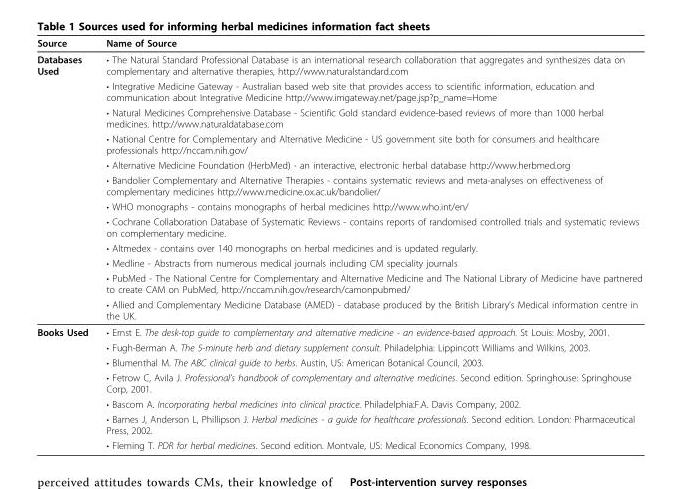table: (36, 36, 641, 450)
table column: (96, 36, 641, 450), (36, 36, 96, 450)
table column header: (36, 36, 641, 50)
table row: (36, 50, 641, 78), (36, 130, 641, 157), (36, 213, 641, 240), (36, 296, 641, 323), (36, 369, 641, 396), (36, 78, 641, 104), (36, 104, 641, 130), (36, 172, 641, 198), (36, 270, 641, 296), (36, 411, 641, 437), (36, 323, 641, 339), (36, 157, 641, 172), (36, 198, 641, 213), (36, 240, 641, 255), (36, 255, 641, 270), (36, 339, 641, 354), (36, 354, 641, 369), (36, 396, 641, 411), (36, 36, 641, 50), (36, 437, 641, 450)
table spanning cell: (36, 50, 96, 323), (36, 323, 96, 450)
